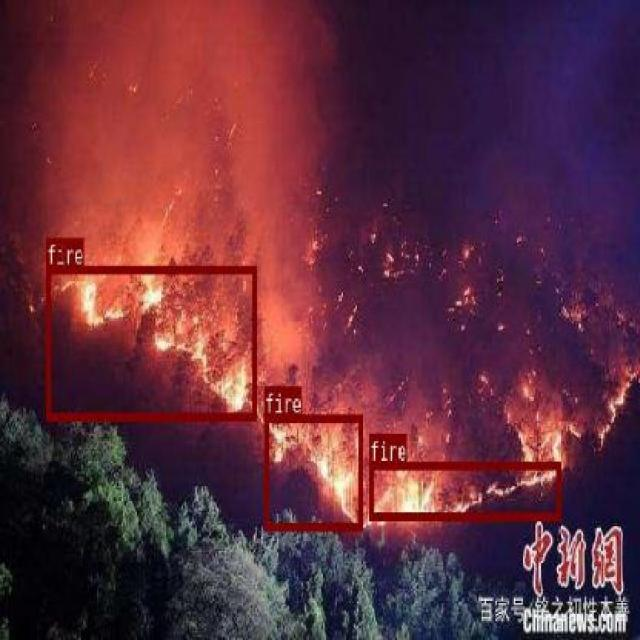fire: (45, 266, 256, 420), (263, 413, 362, 530), (368, 459, 560, 518)
